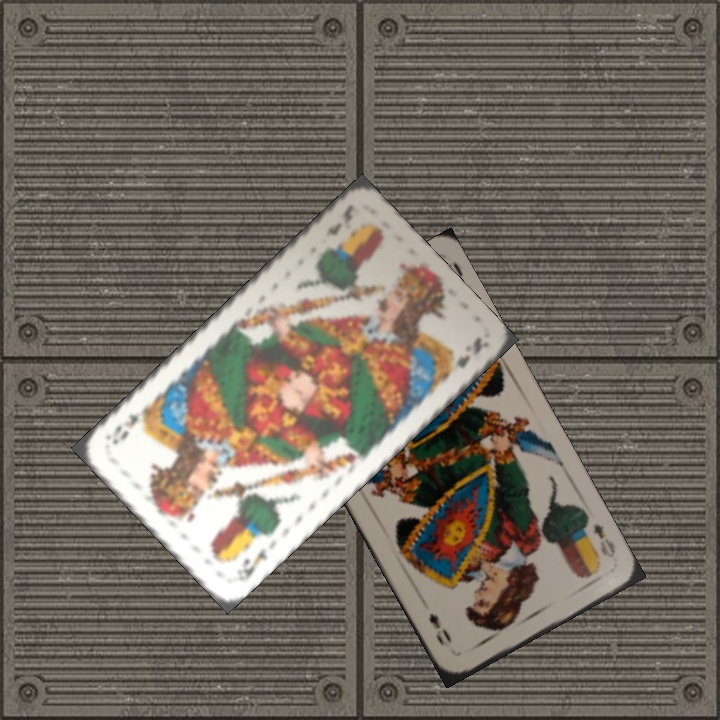EK: (232, 543, 270, 584), (321, 200, 356, 239)
EO: (588, 520, 618, 561)
